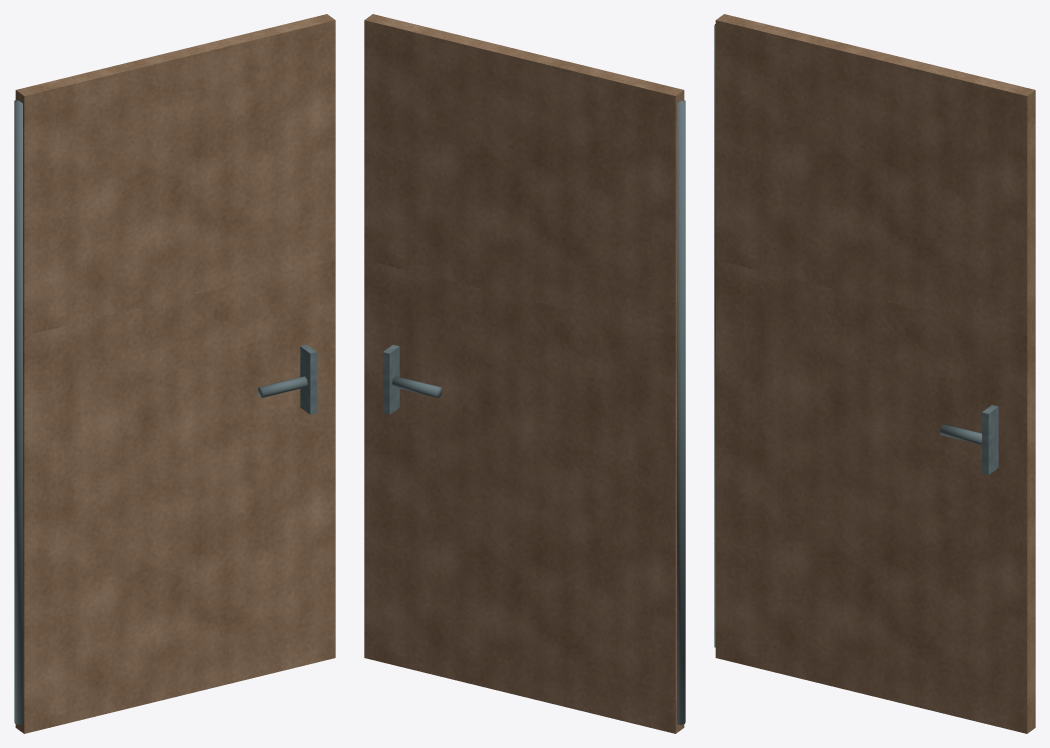
File: Door_Leaf.glb
The picture shows the model from 3 angles, left to right: view 1: azimuth 30°, elevation 25°; view 2: azimuth 150°, elevation 25°; view 3: azimuth 330°, elevation 25°; orthographic projection.
Visible parts, largest first — view 1: VIS_Door_leaf_0000, VIS_Door_hingeaxis_0005, VIS_Door_handle_back_0003, VIS_Door_handle_0004; view 2: VIS_Door_leaf_0000, VIS_Door_hingeaxis_0005, VIS_Door_handle_back_0001, VIS_Door_handle_0002; view 3: VIS_Door_leaf_0000, VIS_Door_hingeaxis_0005, VIS_Door_handle_back_0003.
Part boxes in pixels (x1,y1,x2,y2): VIS_Door_leaf_0000: (15,14,335,733); VIS_Door_hingeaxis_0005: (14,99,22,724); VIS_Door_handle_back_0003: (300,344,316,414); VIS_Door_handle_0004: (257,376,307,397); VIS_Door_leaf_0000: (364,14,684,733); VIS_Door_hingeaxis_0005: (677,99,685,724); VIS_Door_handle_back_0001: (383,344,399,414); VIS_Door_handle_0002: (392,376,442,397); VIS_Door_leaf_0000: (715,14,1035,733); VIS_Door_hingeaxis_0005: (714,24,715,647); VIS_Door_handle_back_0003: (982,405,998,475).
Bounding box in the file's own units: 1.19 × 2.29 × 0.186.
Materials: 2 (2 with a texture image).
